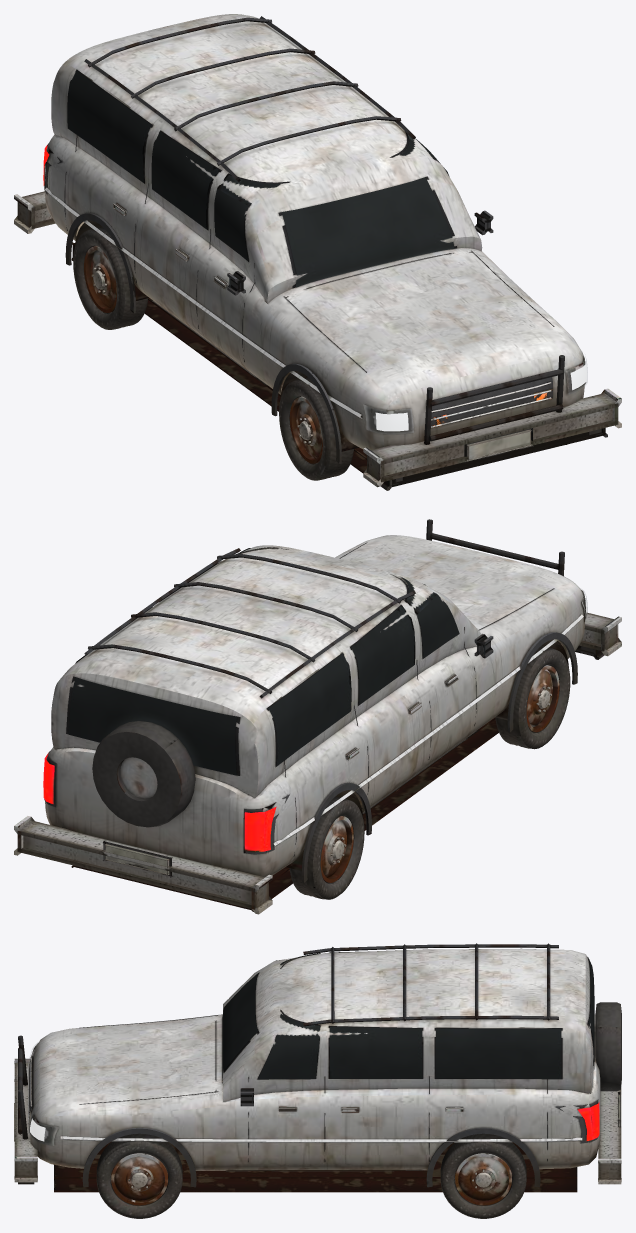
File: traffic-wagon.glb
3 views of the same model, one above another, from view 1: azimuth 30°, elevation 25°; view 2: azimuth 150°, elevation 25°; view 3: azimuth 270°, elevation 25° (orthographic). The views are drawn at different scales.
Parts seen in each view (by area): view 1: body, wheel-fl, wheel-rl; view 2: body, wheel-fl, wheel-rl; view 3: body, wheel-fr, wheel-rr.
Part boxes in pixels (<box>): body: <box>14,14,621,490</box>; wheel-fl: <box>279,377,353,480</box>; wheel-rl: <box>73,226,148,329</box>; body: <box>14,519,621,914</box>; wheel-fl: <box>495,646,570,749</box>; wheel-rl: <box>289,796,364,899</box>; body: <box>14,943,621,1192</box>; wheel-fr: <box>96,1133,182,1218</box>; wheel-rr: <box>440,1133,526,1218</box>.
Size of the model in its own units: 2.15 by 1.9 by 5.25.
Materials: 18 (16 with a texture image).
